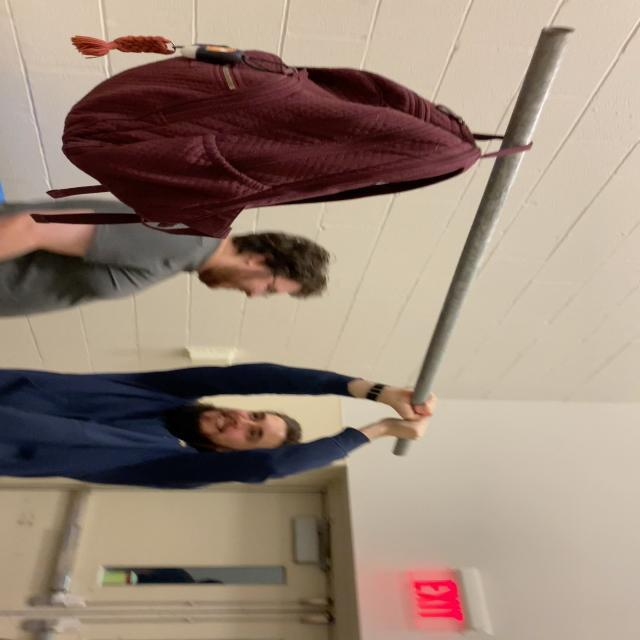Backpacks: (51, 35, 490, 228)
